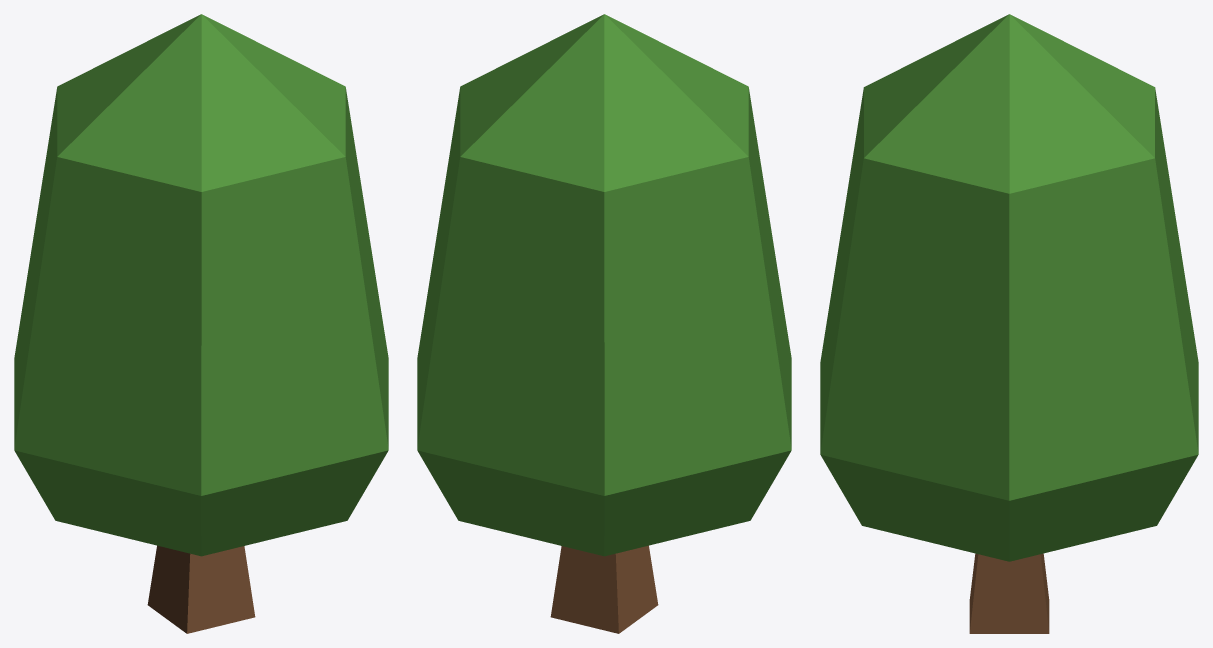
The model's file is tree_fat.glb.
3 views of the same model, side by side, from view 1: azimuth 30°, elevation 25°; view 2: azimuth 150°, elevation 25°; view 3: azimuth 270°, elevation 25° (orthographic).
Parts seen in each view (by area): view 1: tree_fat; view 2: tree_fat; view 3: tree_fat.
Boxes of the visible parts, x1,y1,x2,y2 form: tree_fat: [14, 14, 388, 633]; tree_fat: [417, 14, 791, 633]; tree_fat: [820, 14, 1198, 633].
Bounding box in the file's own units: 0.755 × 1.15 × 0.6538.
